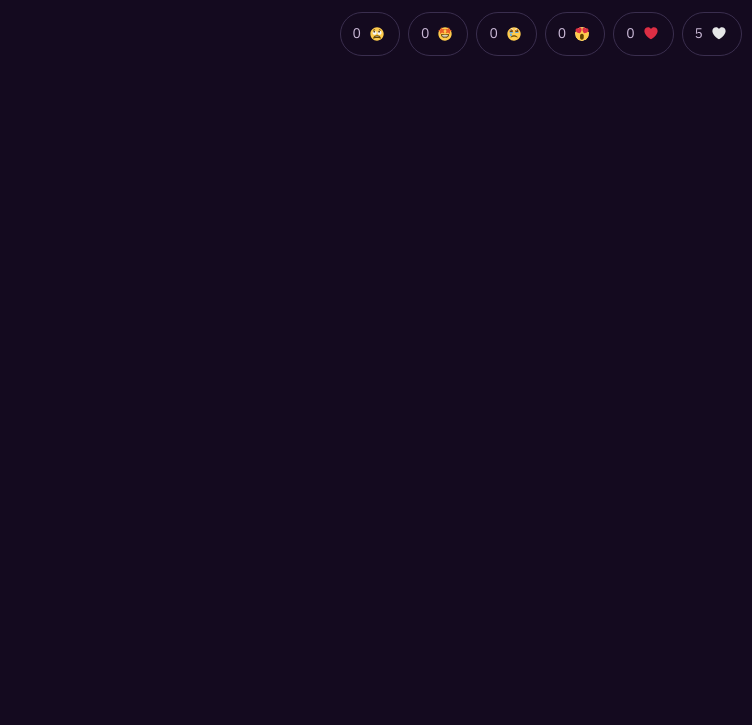
Test: ReactionBar › restores the snapshot and says why when the request fails
The width and height of the screenshot is (752, 725).
Step 1. Click the button named "أعجبني" → (712, 34), box [682,12,742,56]
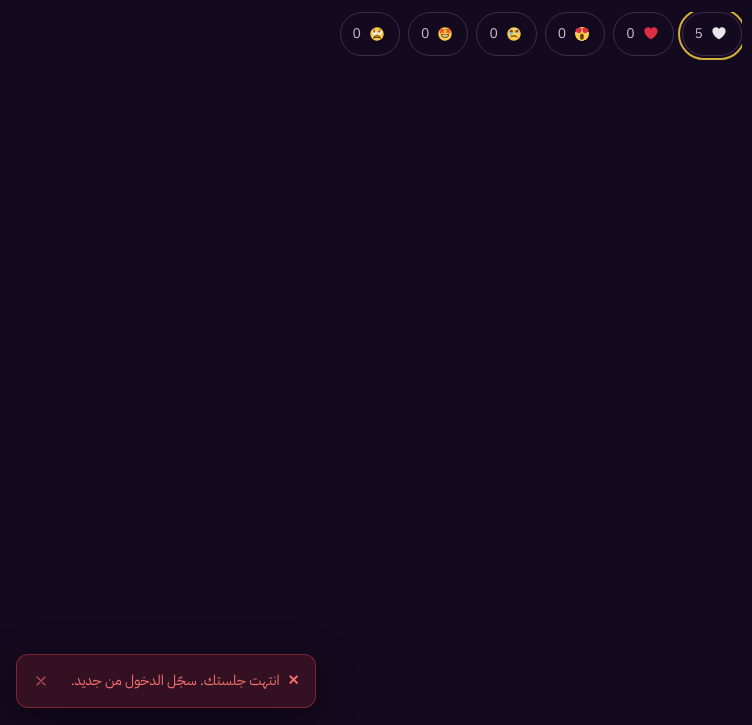
Result: the message shows "انتهت جلستك" at [71,670,280,691]
